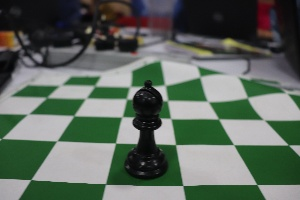black_bishop: (112, 72, 175, 182)
